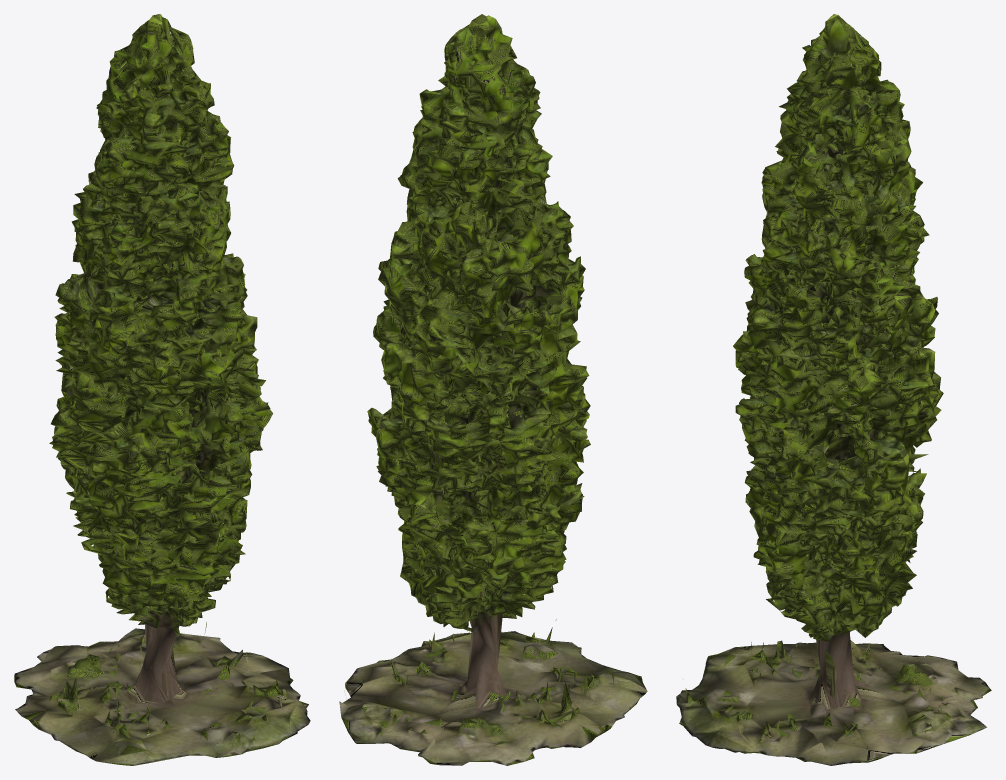
The model's file is lib_tp_duonglhasa.near.glb.
The picture shows the model from 3 angles, left to right: view 1: azimuth 30°, elevation 25°; view 2: azimuth 150°, elevation 25°; view 3: azimuth 270°, elevation 25°; orthographic projection.
Size of the model in its own units: 0.7688 by 2 by 0.8308.
Materials: 1 (1 with a texture image).
